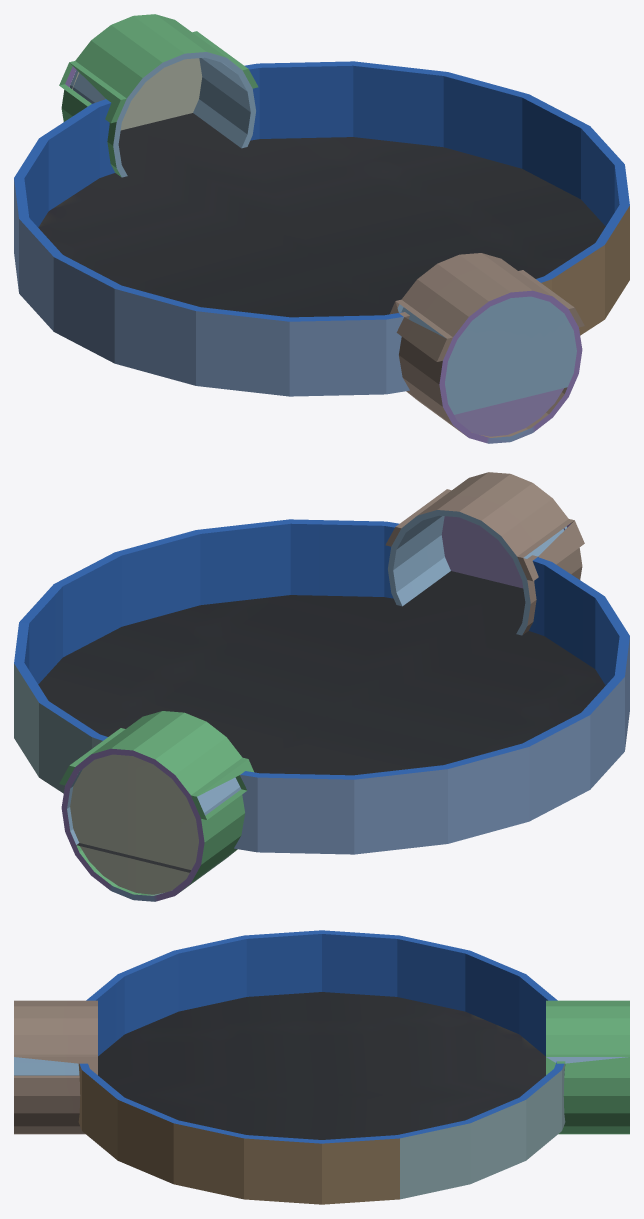
File: arena.dae
3 views of the same model, one above another, from view 1: azimuth 30°, elevation 25°; view 2: azimuth 150°, elevation 25°; view 3: azimuth 270°, elevation 25° (orthographic). The views are drawn at different scales.
Parts seen in each view (by area): view 1: arena, pDisc2, pDisc1; view 2: arena, pDisc2, pDisc1; view 3: arena.
Part boxes in pixels (x1,y1,x2,y2): arena: [14, 14, 629, 443]; pDisc2: [72, 58, 202, 130]; pDisc1: [454, 388, 563, 436]; arena: [14, 472, 629, 901]; pDisc2: [70, 754, 198, 894]; pDisc1: [441, 516, 565, 588]; arena: [14, 930, 629, 1204].
Size of the model in its own units: 30 by 8 by 36.6.
